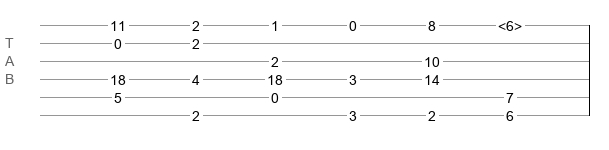0: (114, 36, 122, 46), (271, 90, 279, 100), (349, 18, 357, 28)
1: (271, 18, 279, 28)
10: (424, 54, 440, 64)
11: (110, 18, 126, 28)
14: (424, 72, 440, 82)
18: (110, 72, 126, 82), (267, 72, 283, 82)
2: (192, 18, 200, 28), (192, 108, 200, 118), (192, 36, 200, 46), (271, 54, 279, 64), (428, 108, 436, 118)
3: (349, 108, 357, 118), (349, 72, 357, 82)
4: (192, 72, 200, 82)
5: (114, 90, 122, 100)
6: (506, 108, 514, 118)
7: (506, 90, 514, 100)
8: (428, 18, 436, 28)
harmonic: (498, 18, 522, 28)
